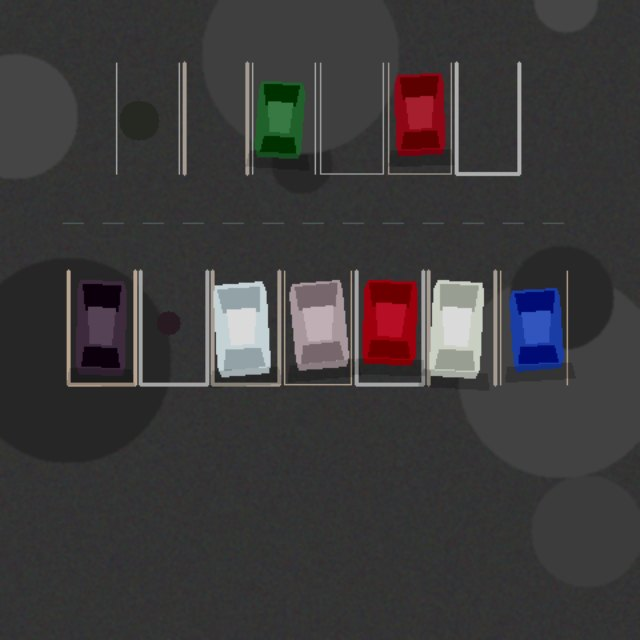space-empty: (140, 271, 207, 384), (116, 63, 179, 173), (184, 63, 247, 173), (320, 63, 383, 173), (456, 63, 519, 173)
space-occupied: (68, 271, 135, 384), (212, 271, 279, 384), (284, 271, 351, 384), (356, 271, 423, 384), (428, 271, 495, 384), (500, 271, 567, 384), (252, 63, 315, 173), (388, 63, 451, 173)
